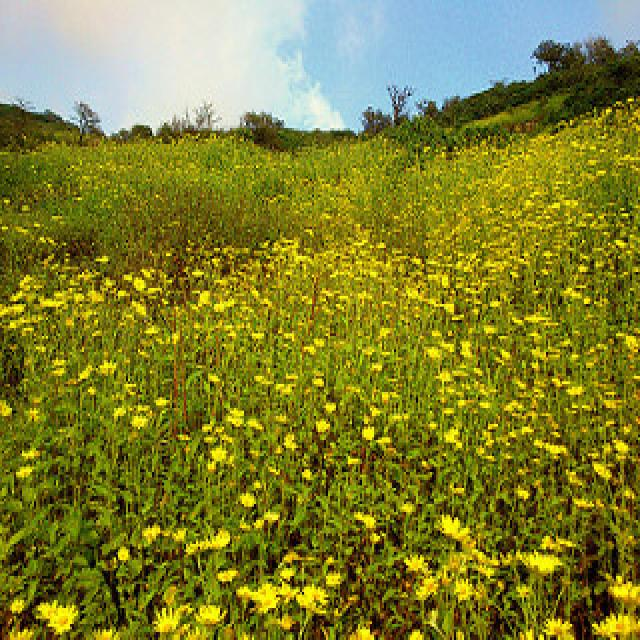sunflower: (38, 602, 80, 632), (612, 581, 640, 607)
